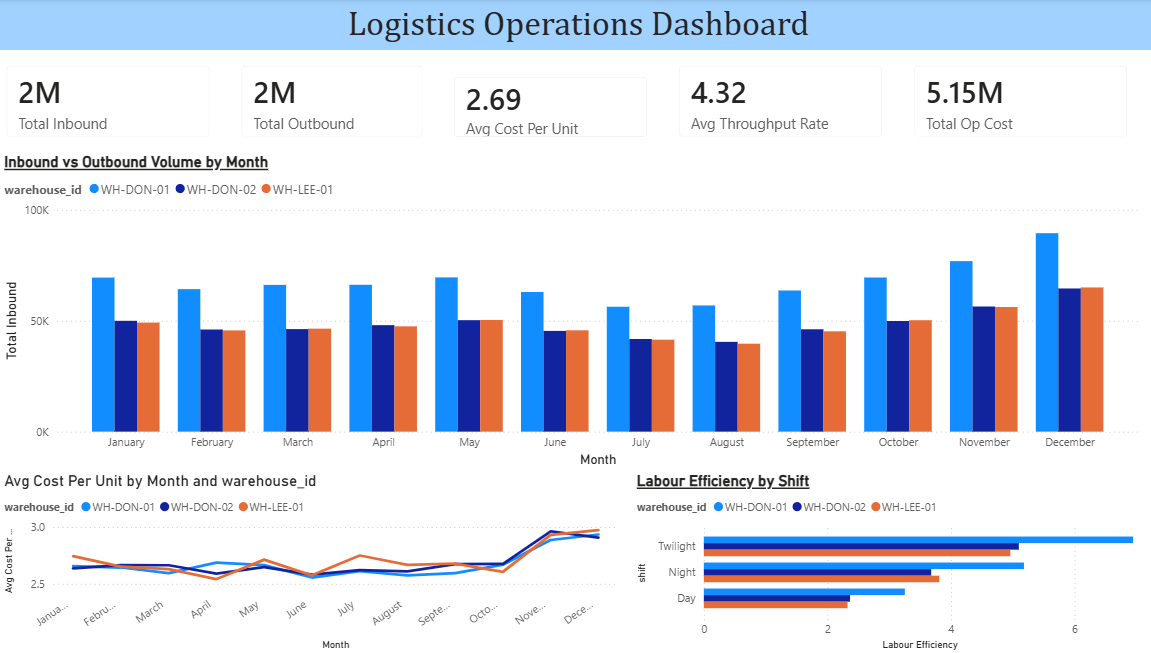

This screenshot's page, from the dashboard's own definition file:
{"tool":"powerbi","page":{"name":" Logistics Operations","canvas":[1280,720],"ordinal":3},"visuals":[{"type":"textbox","box":[9.6,0,1270.7,56.3],"z":0},{"type":"cardVisual","fields":{"Data":["logistics_ops.Total Inbound"]},"box":[0,56.3,258,112.5],"z":1},{"type":"cardVisual","fields":{"Data":["logistics_ops.Avg Throughput Rate"]},"box":[738.3,56.3,258,112.5],"z":2},{"type":"cardVisual","fields":{"Data":["logistics_ops.Avg Cost Per Unit"]},"box":[491.3,68.6,247,100.2],"z":3},{"type":"cardVisual","fields":{"Data":["logistics_ops.Total Outbound"]},"box":[258,56.3,233.3,112.5],"z":4},{"type":"cardVisual","fields":{"Data":["logistics_ops.Total Op Cost"]},"box":[996.2,56.3,269,112.5],"z":5},{"type":"clusteredColumnChart","title":"Inbound vs Outbound Volume by Month","fields":{"Series":["logistics_ops.warehouse_id"],"Y":["logistics_ops.Total Inbound"],"Category":["logistics_ops.date.Variation.Date Hierarchy.Month"]},"box":[9.6,168.8,1255.6,349.9],"z":6},{"type":"lineChart","fields":{"Category":["logistics_ops.date.Variation.Date Hierarchy.Month"],"Y":["logistics_ops.Avg Cost Per Unit"],"Series":["logistics_ops.warehouse_id"]},"box":[9.6,518.7,683.4,201.7],"z":7},{"type":"clusteredBarChart","title":"Labour Efficiency by Shift","fields":{"Category":["logistics_ops.shift"],"Y":["logistics_ops.Labour Efficiency"],"Series":["logistics_ops.warehouse_id"]},"box":[703.9,518.7,562.6,201.7],"z":8}]}

Visuals, with their boxes in screenshot pixels (x1, y1, x2, y2), scaled from the page's 1280x720 canvas onto the 1151x653 screenshot:
textbox: (9, 0, 1150, 51)
cardVisual - logistics_ops.Total Inbound: (0, 51, 232, 153)
cardVisual - logistics_ops.Avg Throughput Rate: (664, 51, 896, 153)
cardVisual - logistics_ops.Avg Cost Per Unit: (442, 62, 664, 153)
cardVisual - logistics_ops.Total Outbound: (232, 51, 442, 153)
cardVisual - logistics_ops.Total Op Cost: (896, 51, 1138, 153)
"Inbound vs Outbound Volume by Month" clusteredColumnChart: (9, 153, 1138, 470)
lineChart - logistics_ops.date.Variation.Date Hierarchy.Month x logistics_ops.Avg Cost Per Unit: (9, 470, 623, 652)
"Labour Efficiency by Shift" clusteredBarChart: (633, 470, 1139, 652)
